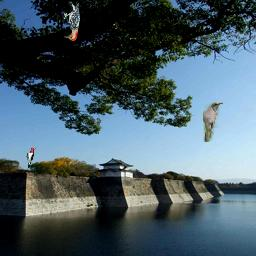Cuckoo: (203, 102, 223, 142)
Woodpecker: (63, 1, 80, 41), (26, 147, 36, 170)
